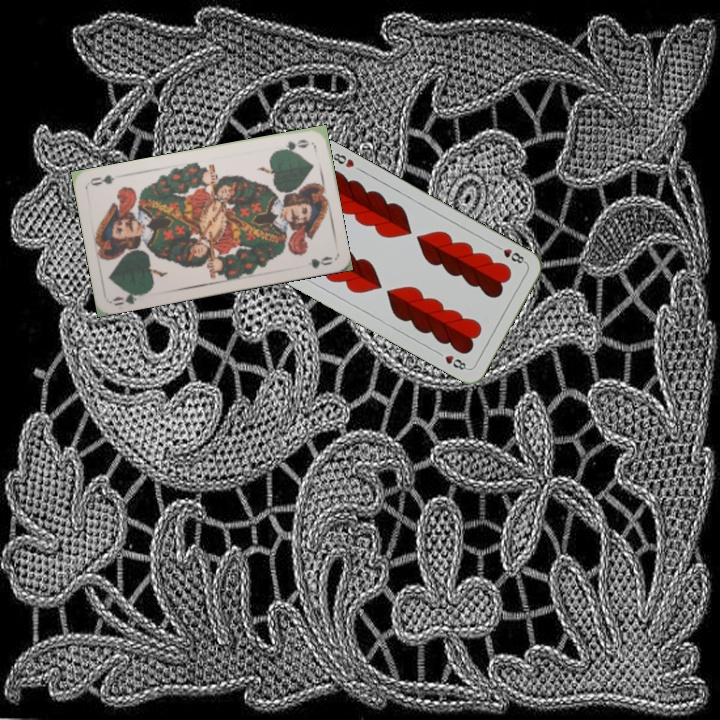GO: (109, 287, 149, 307), (273, 135, 312, 154)
H8: (491, 241, 529, 266)
